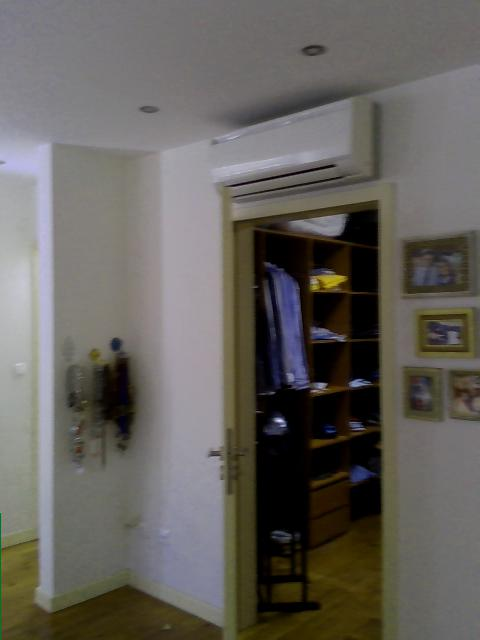open_door: (220, 181, 398, 639)
